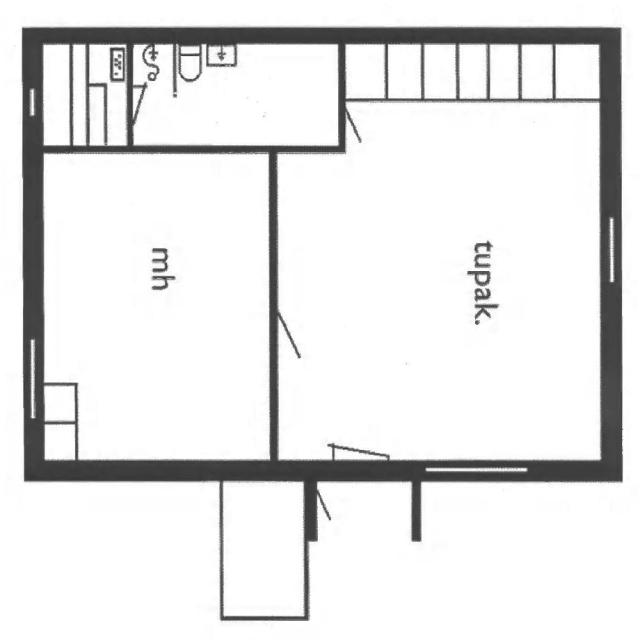zone: (273, 147, 605, 468), (40, 146, 270, 468), (41, 37, 345, 149)
